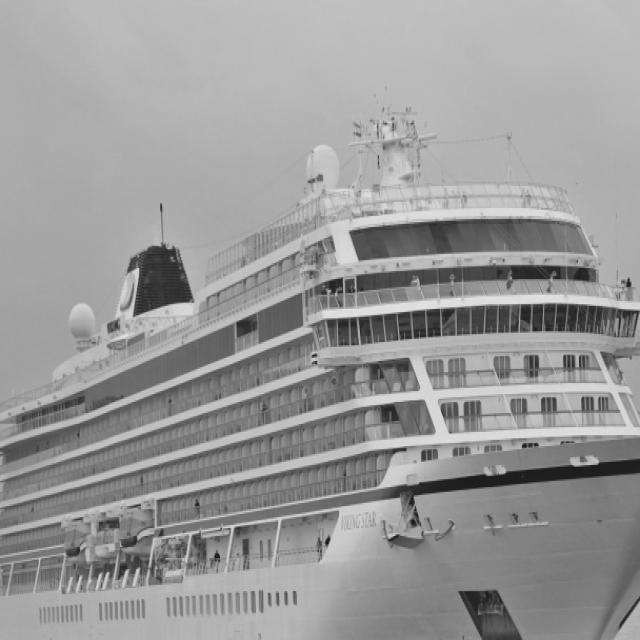cruises: (1, 103, 640, 640)
